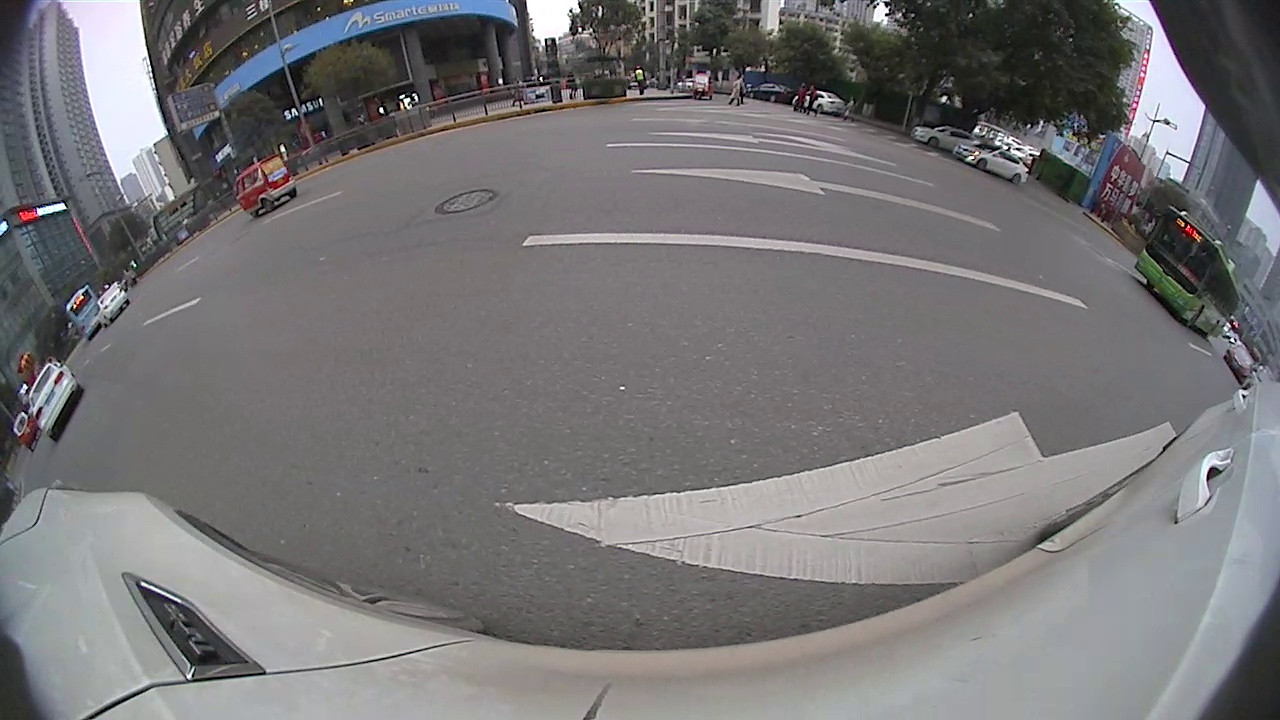bus: (1134, 203, 1243, 346), (64, 285, 108, 340)
car: (25, 360, 85, 443), (953, 141, 1033, 188), (911, 123, 984, 153), (793, 88, 848, 118), (95, 280, 130, 324), (1223, 343, 1257, 383)
front: (926, 133, 942, 150), (973, 158, 991, 173)
rear: (262, 198, 277, 215), (1007, 173, 1024, 188)
rider: (235, 155, 297, 216)
